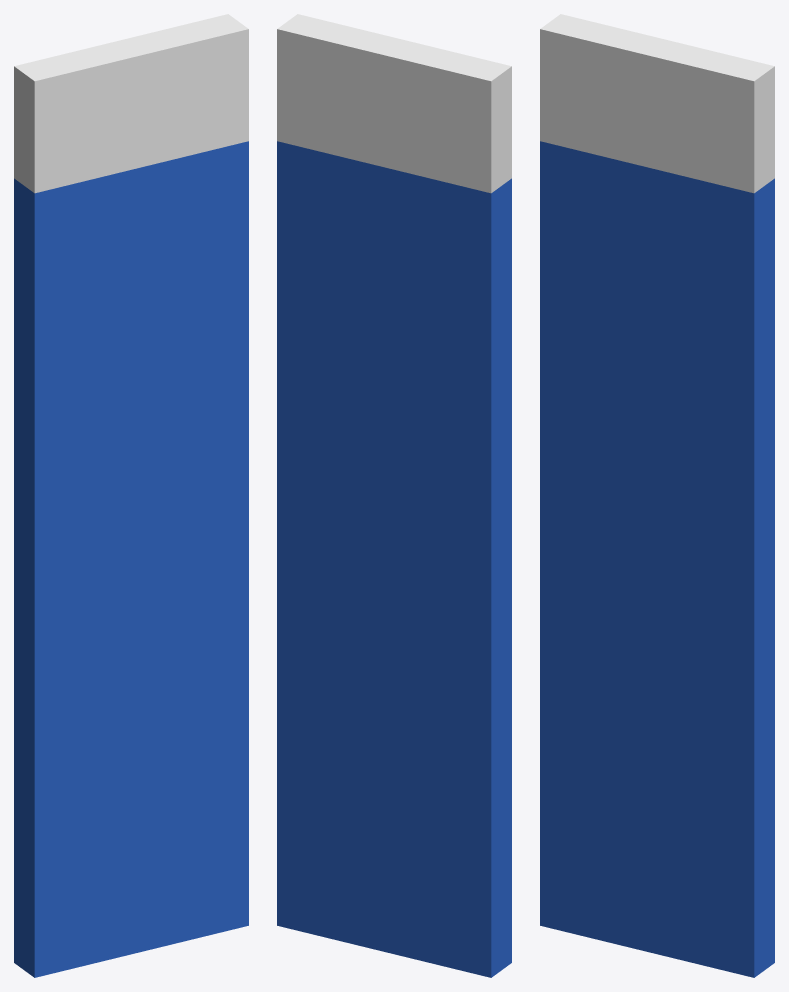
The model's file is wall_toilet_stall.obj.
3 renders of one model, left to right at view 1: azimuth 30°, elevation 25°; view 2: azimuth 150°, elevation 25°; view 3: azimuth 330°, elevation 25°, orthographic.
Bounding box in the file's own units: 1.2 × 4.8 × 0.2.
1 material, 1 textured.
